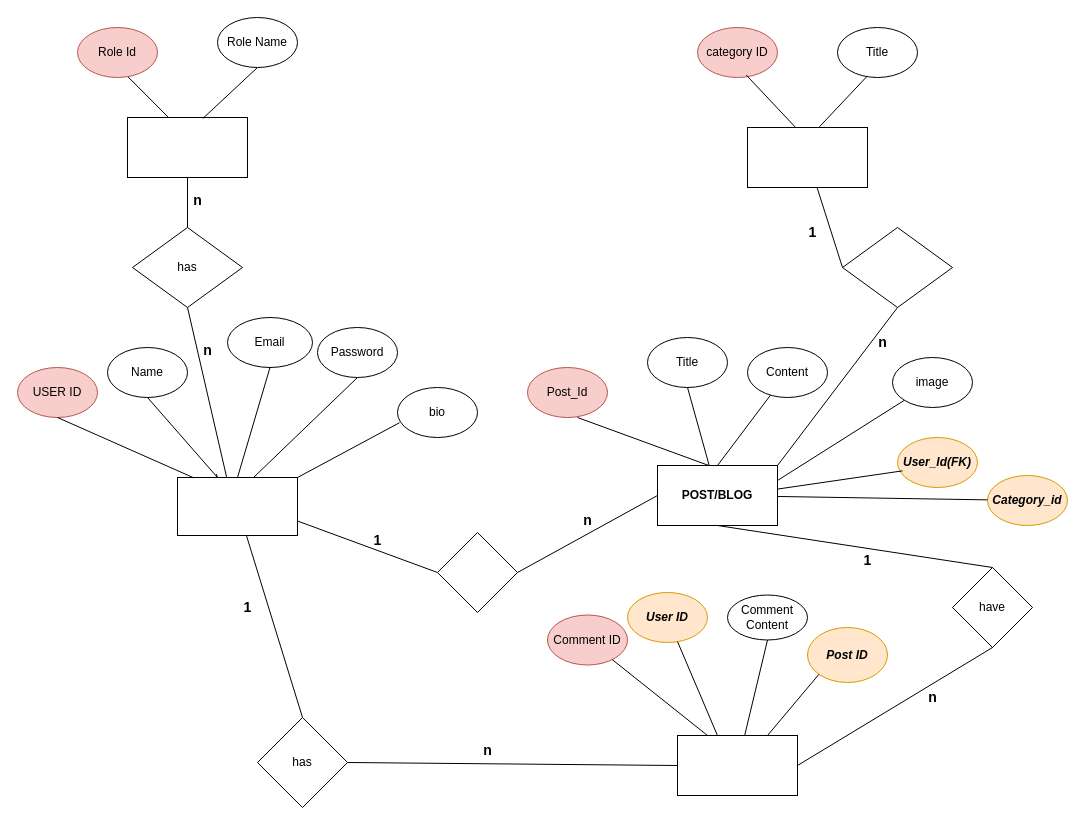
Some shapes in this 1085 by 825 pixel diagram are drawn without their labels. Each missing label, with the box of its shape:
Can Create: (436, 532, 518, 612)
CATEGORY: (746, 126, 868, 188)
COMMENT: (676, 734, 798, 796)
conatins: (842, 226, 952, 308)
ROLE: (126, 116, 248, 178)
USER: (176, 476, 298, 536)
